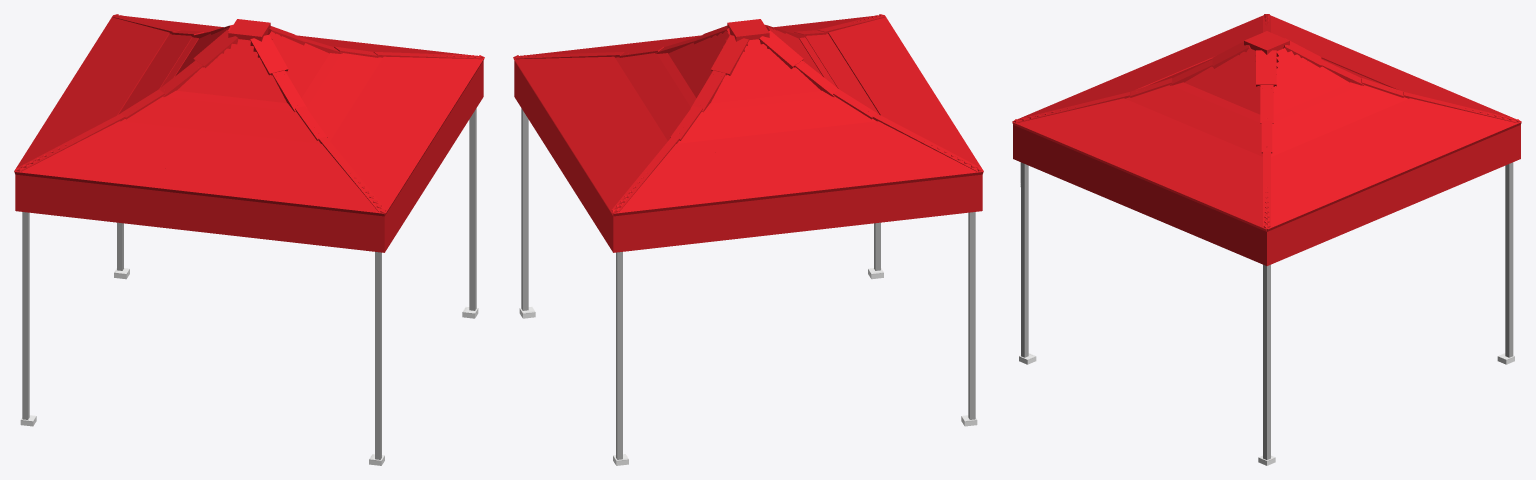
The model's file is tent_red_y45.obj.
The picture shows the model from 3 angles, left to right: view 1: azimuth 30°, elevation 25°; view 2: azimuth 150°, elevation 25°; view 3: azimuth 270°, elevation 25°; orthographic projection. The views are drawn at different scales.
Visible parts, largest first — view 1: text2, text3, cube1.005, cube2.005, stem1, cube3.005, cube4.005, stem4, cube5.001, cube6.001, stem3, cube7.001 (+61 smaller); view 2: text1, text0, cube1.003, cube2.003, stem1, cube3.003, cube4.003, stem4, cube5, cube6, stem2, cube7 (+61 smaller); view 3: text0, text3, cube1.006, cube1.004, stem2, stem3, stem4, cube2.004, cube2.006, cube3.004, cube3.006, cube4.004 (+44 smaller).
Part boxes in pixels (bbox=[...]): text2: bbox=[15, 174, 386, 252]; text3: bbox=[386, 63, 482, 249]; cube1.005: bbox=[15, 168, 385, 216]; cube2.005: bbox=[22, 164, 381, 208]; stem1: bbox=[22, 212, 29, 419]; cube3.005: bbox=[29, 161, 377, 204]; cube4.005: bbox=[36, 158, 373, 199]; stem4: bbox=[469, 108, 476, 310]; cube5.001: bbox=[43, 154, 368, 194]; cube6.001: bbox=[50, 151, 364, 189]; stem3: bbox=[375, 252, 381, 459]; cube7.001: bbox=[58, 147, 360, 185]; text1: bbox=[619, 175, 976, 252]; text0: bbox=[514, 62, 618, 252]; cube1.003: bbox=[612, 168, 982, 216]; cube2.003: bbox=[616, 164, 975, 208]; stem1: bbox=[968, 212, 975, 419]; cube3.003: bbox=[620, 161, 968, 204]; cube4.003: bbox=[624, 158, 961, 199]; stem4: bbox=[521, 108, 528, 310]; cube5: bbox=[629, 154, 954, 194]; cube6: bbox=[633, 151, 947, 189]; stem2: bbox=[616, 252, 622, 459]; cube7: bbox=[637, 147, 939, 185]; text0: bbox=[1263, 125, 1520, 265]; text3: bbox=[1017, 126, 1262, 264]; cube1.006: bbox=[1264, 119, 1521, 233]; cube1.004: bbox=[1012, 119, 1269, 231]; stem2: bbox=[1505, 162, 1513, 357]; stem3: bbox=[1020, 162, 1028, 357]; stem4: bbox=[1263, 264, 1270, 459]; cube2.004: bbox=[1020, 117, 1269, 224]; cube2.006: bbox=[1264, 117, 1513, 224]; cube3.004: bbox=[1027, 116, 1269, 219]; cube3.006: bbox=[1264, 116, 1506, 219]; cube4.004: bbox=[1035, 114, 1268, 214].
Bounding box in the file's own units: 5.27 × 3.66 × 5.27.
